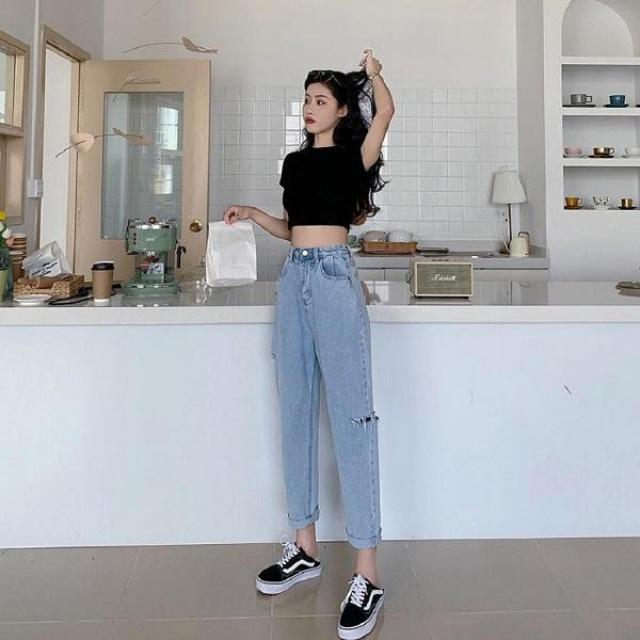clothes: (271, 132, 389, 557)
